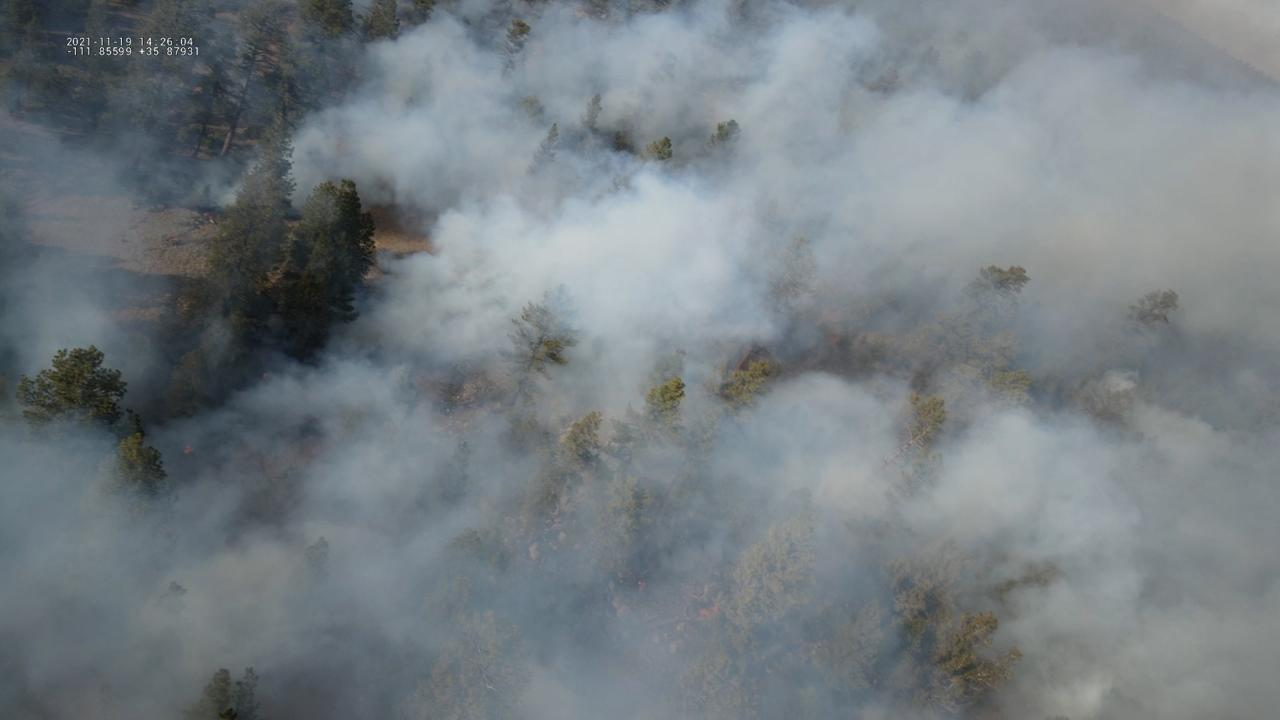fire: (688, 605, 722, 620), (182, 444, 197, 455)
smoke: (0, 0, 1280, 720)
